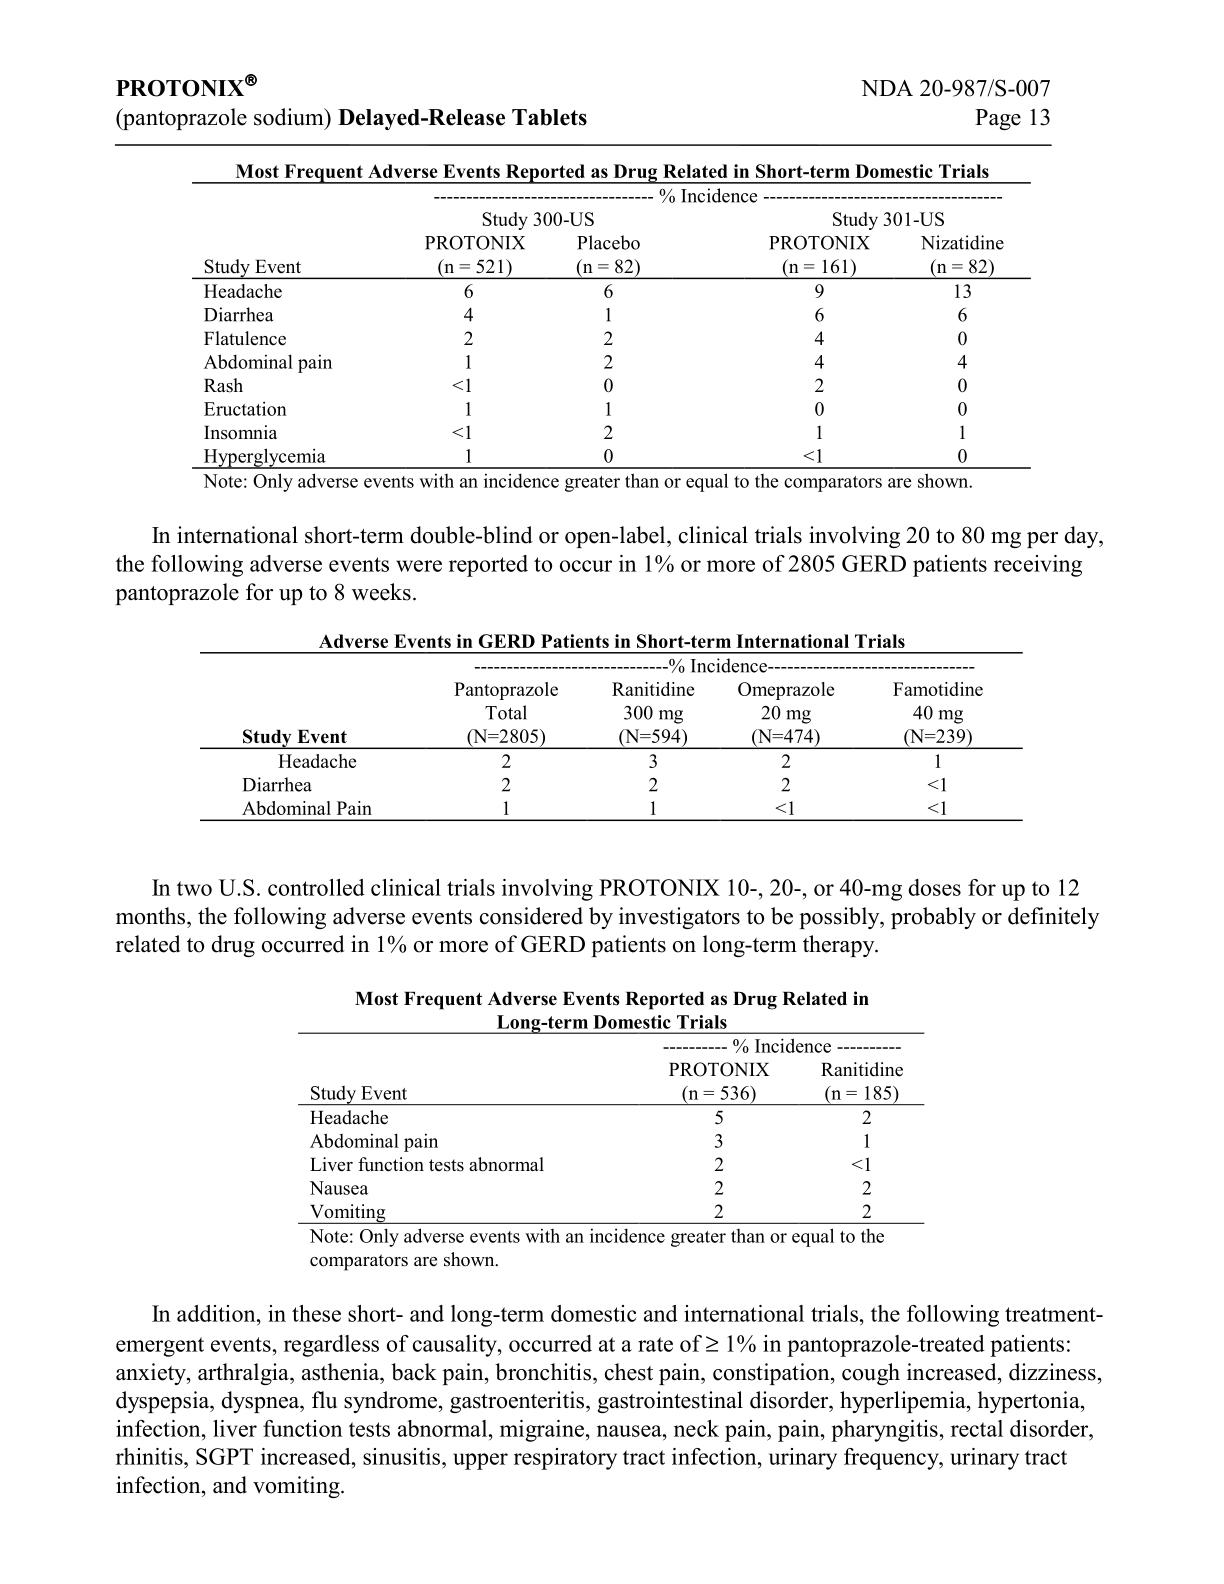partial_lined_merged_cells: (192, 181, 1032, 471), (201, 651, 1025, 822), (296, 1032, 926, 1225)
